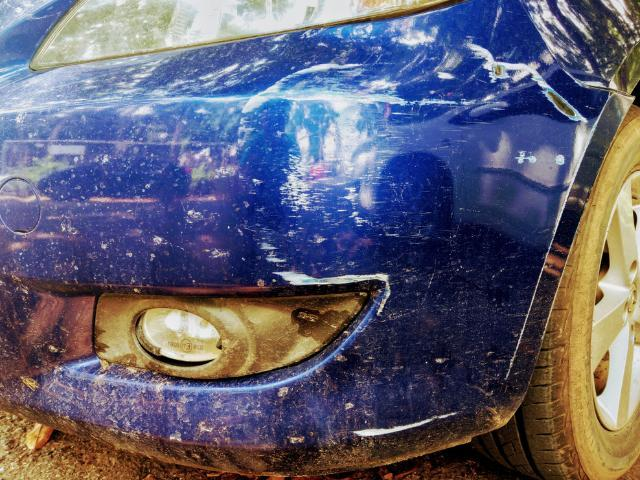Bumper: (0, 68, 547, 457)
Fender: (512, 0, 640, 85)
